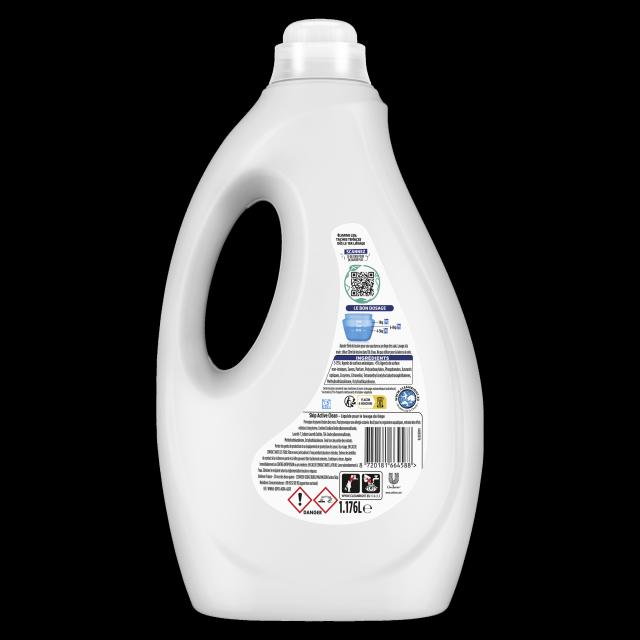GHS_Symbol_CORROSION: (314, 485, 338, 514)
GHS_Symbol_EXCLAMATION_MARK: (287, 486, 312, 513)
